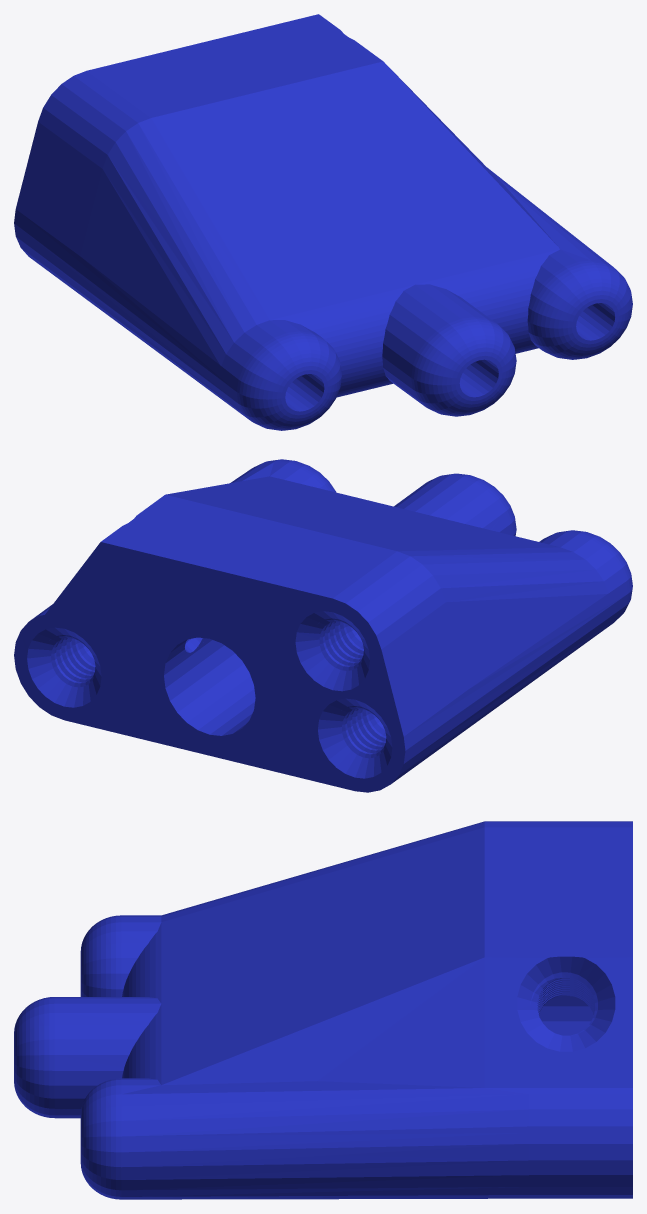
File: quadstick-mouthpiece.glb
3 views of the same model, one above another, from view 1: azimuth 30°, elevation 25°; view 2: azimuth 150°, elevation 25°; view 3: azimuth 270°, elevation 25° (orthographic). The views are drawn at different scales.
Visible parts, largest first — view 1: QuadStick mouthpiece, three holes, narrow; view 2: QuadStick mouthpiece, three holes, narrow; view 3: QuadStick mouthpiece, three holes, narrow.
Boxes of the visible parts, left/top/right/bottom form: QuadStick mouthpiece, three holes, narrow: left=14, top=14, right=632, bottom=430; QuadStick mouthpiece, three holes, narrow: left=14, top=459, right=632, bottom=792; QuadStick mouthpiece, three holes, narrow: left=14, top=821, right=632, bottom=1199.
Bounding box in the file's own units: 0.035 × 0.016 × 0.0417.
